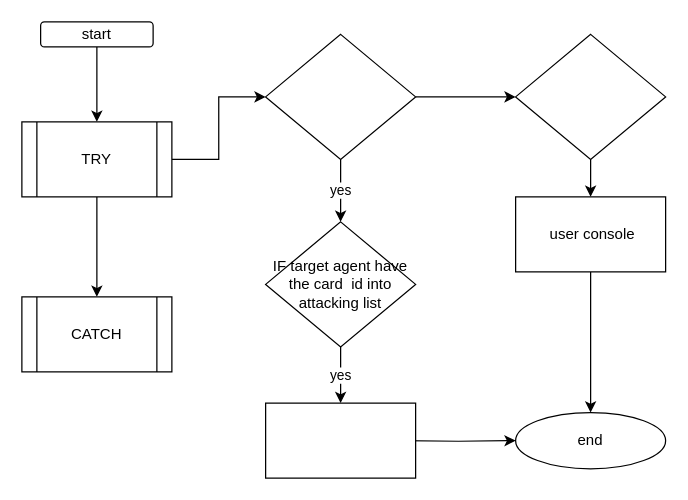
The diagram is 688 pixels wide and 500 high, and some of its shapes have lost their labels. The centre of each missing label's shape, as x and y in pixels:
ELSE: point (590, 96)
IF target agent and card has attackAgents array: point (340, 96)
remove the card id into target agent list: point (340, 440)
